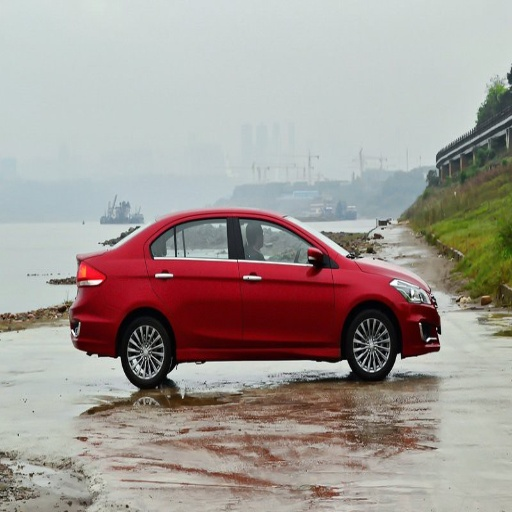back_right_door: (150, 215, 242, 346)
front_right_door: (236, 215, 334, 344)
